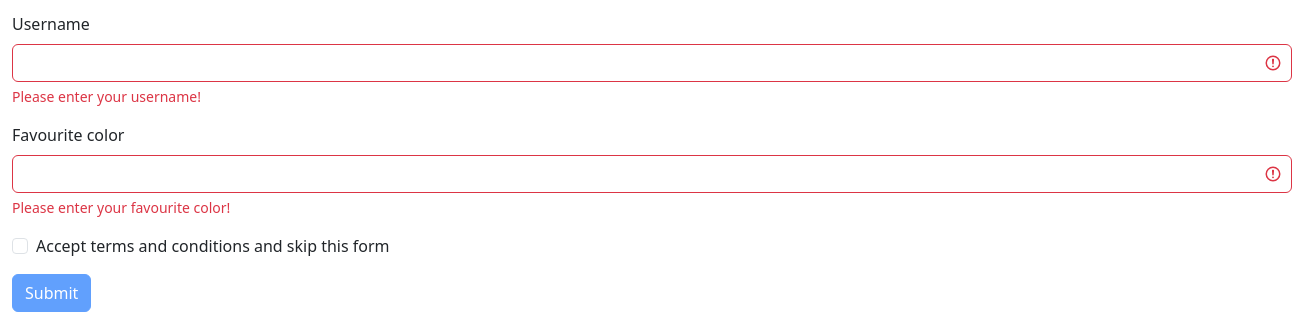
Test: Form page › username field validation along with submit button status
expect the text "Please enter your username!" is shown: met, box left=12, top=87, right=201, bottom=106
expecting the validation to be successful after entering the username
Type "somevalue" into the field with test id "username-field" at (652, 63), box left=12, top=44, right=1292, bottom=82
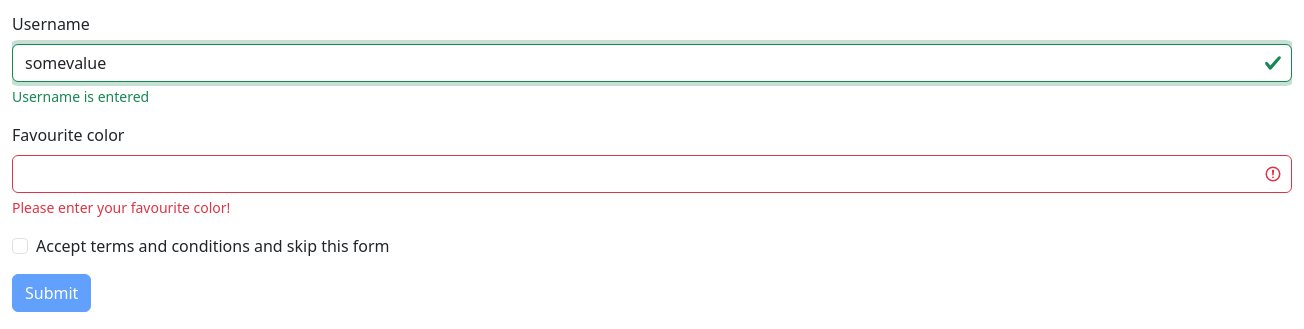
expect the text "Username is entered" is shown: met, box left=12, top=87, right=149, bottom=106
expecting the validation to be unsuccessful after clearing the username
Clear the field with test id "username-field" at (652, 63), box left=12, top=44, right=1292, bottom=82
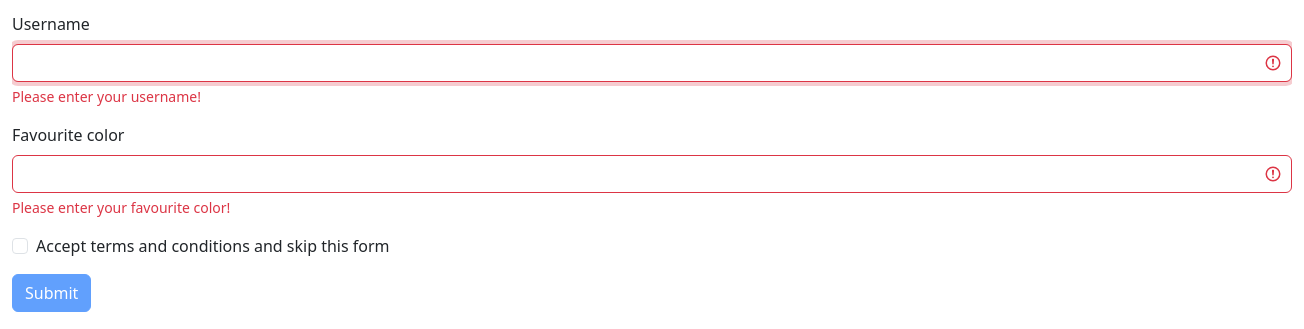
expect the button labelled "Submit" is disabled: met, box left=12, top=274, right=91, bottom=312
expect the text "Please enter your username!" is shown: met, box left=12, top=87, right=201, bottom=106
